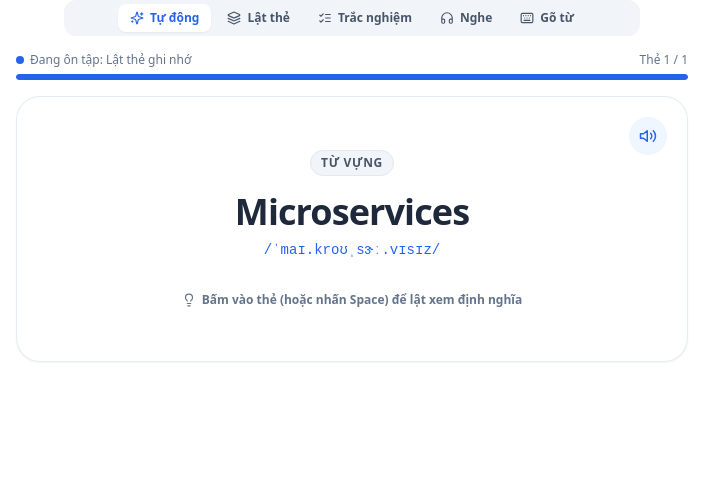
Flashcard StudyMode Component › reveals definition when card is flipped
What coordinates should you click on to do the following:
click the text "Bấm vào thẻ (hoặc nhấn Space) để lật xem định nghĩa"
I would click on:
 (352, 300)
Its box is [182, 292, 522, 308].
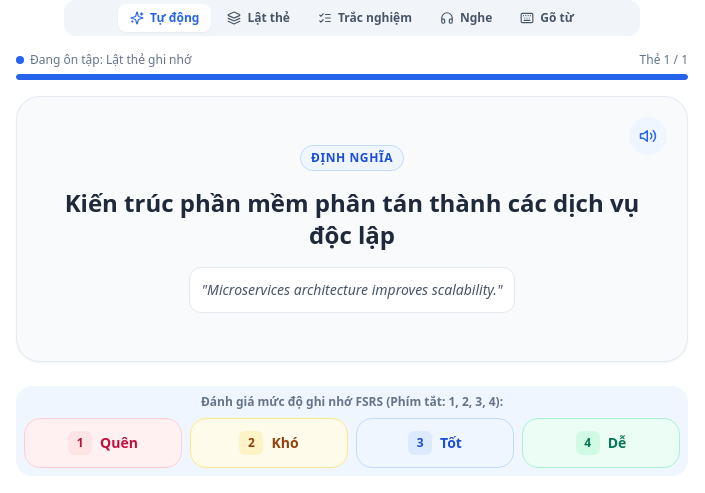
Expected: the heading "Kiến trúc phần mềm phân tán thành các dịch vụ độc lập" is shown, [49, 187, 655, 251]
